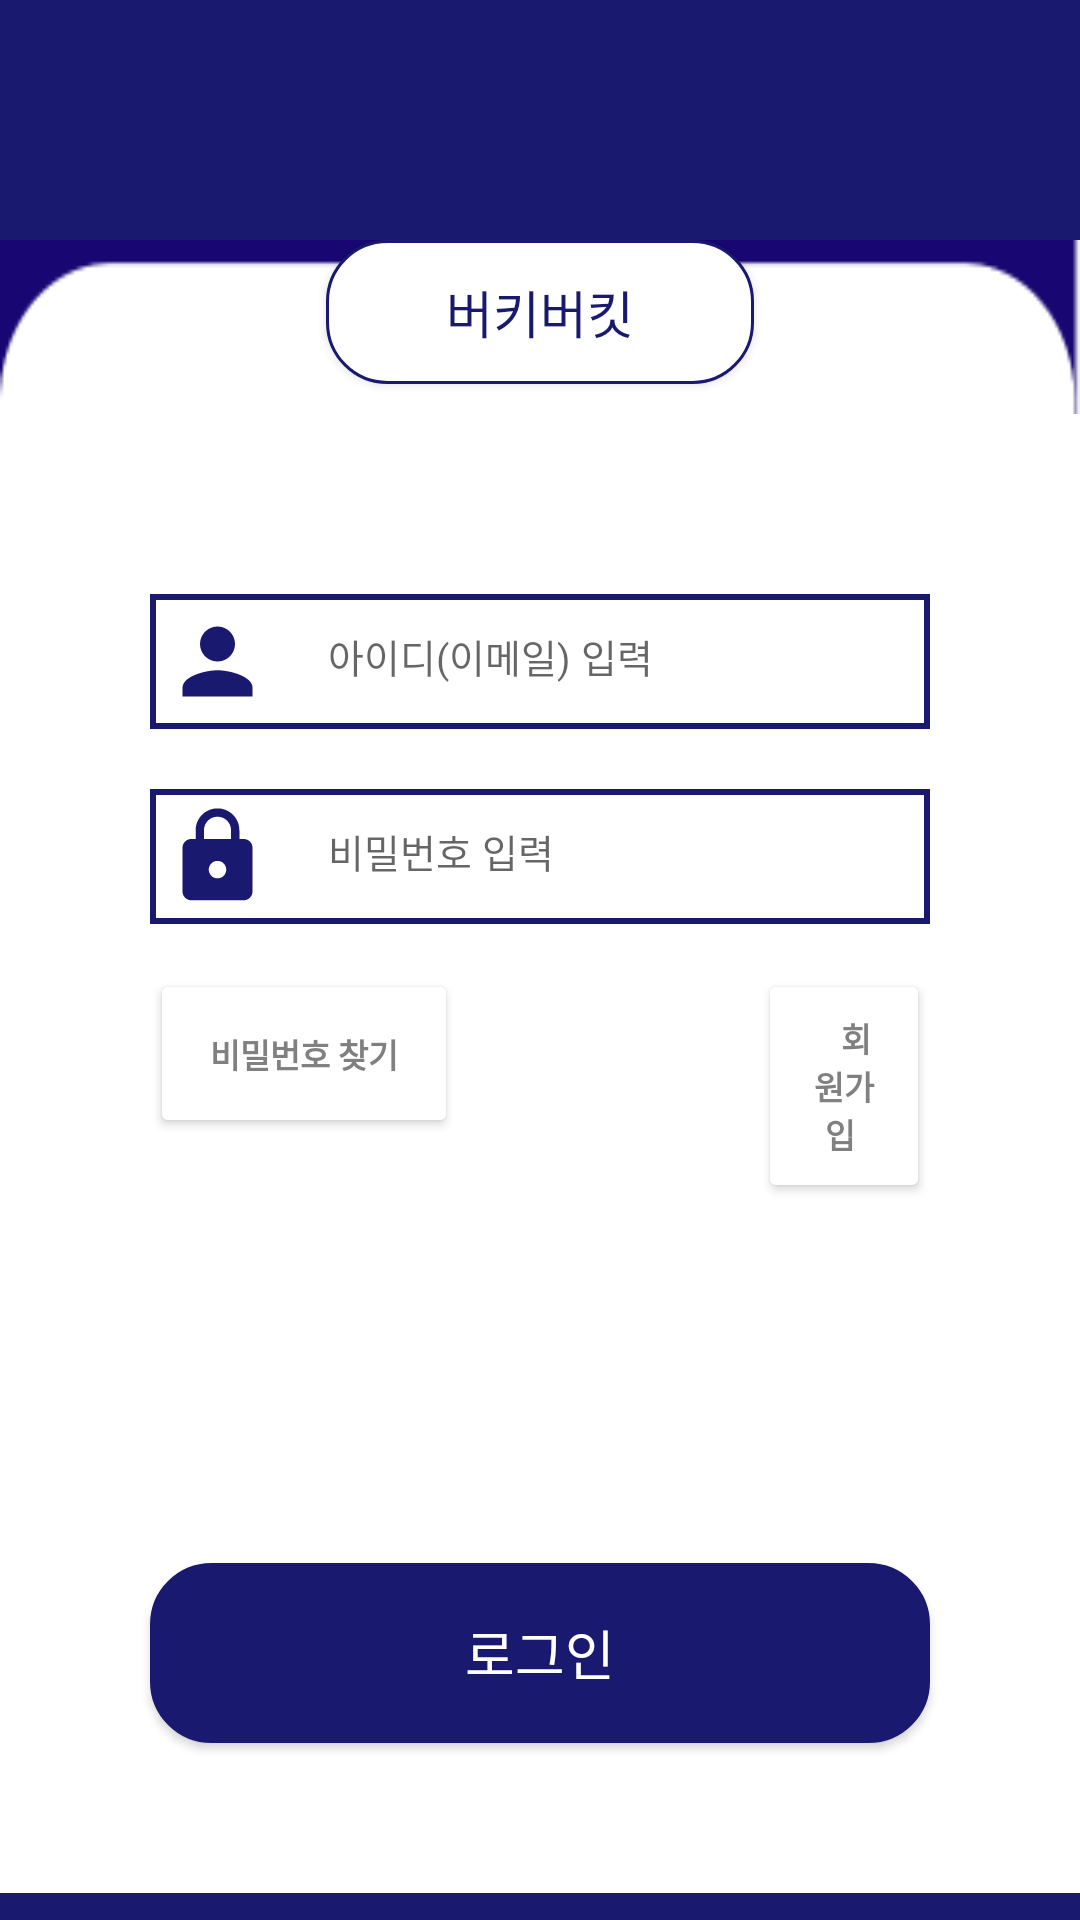

Named icons in this screenshot (1080*1920) and their bounding boxes, (x1, y1, x2, y2):
lock: (182, 808, 253, 901)
person: (182, 626, 253, 697)
